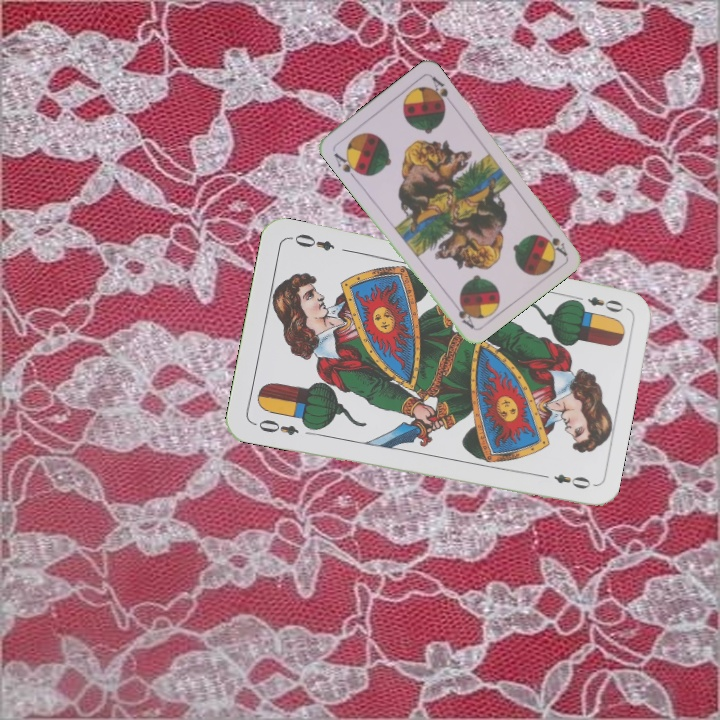EO: (569, 292, 626, 315), (249, 415, 301, 439)
SA: (330, 148, 364, 182), (540, 231, 570, 259)
